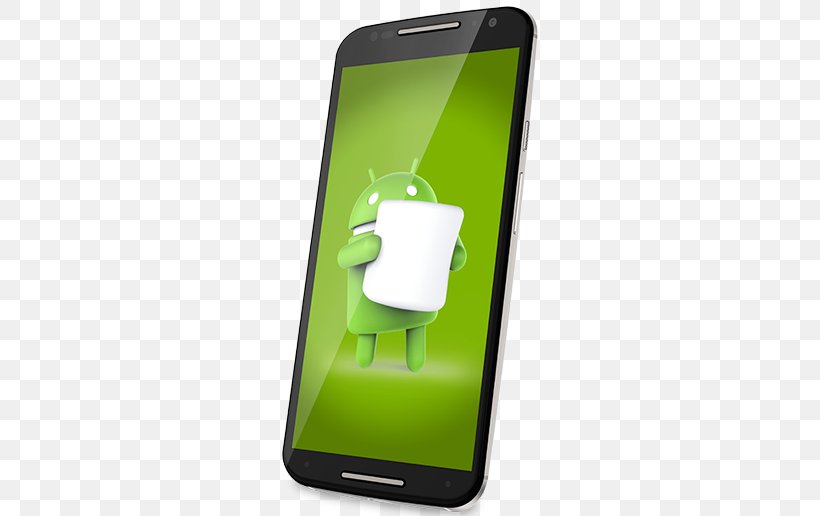phone: (277, 8, 546, 513)
